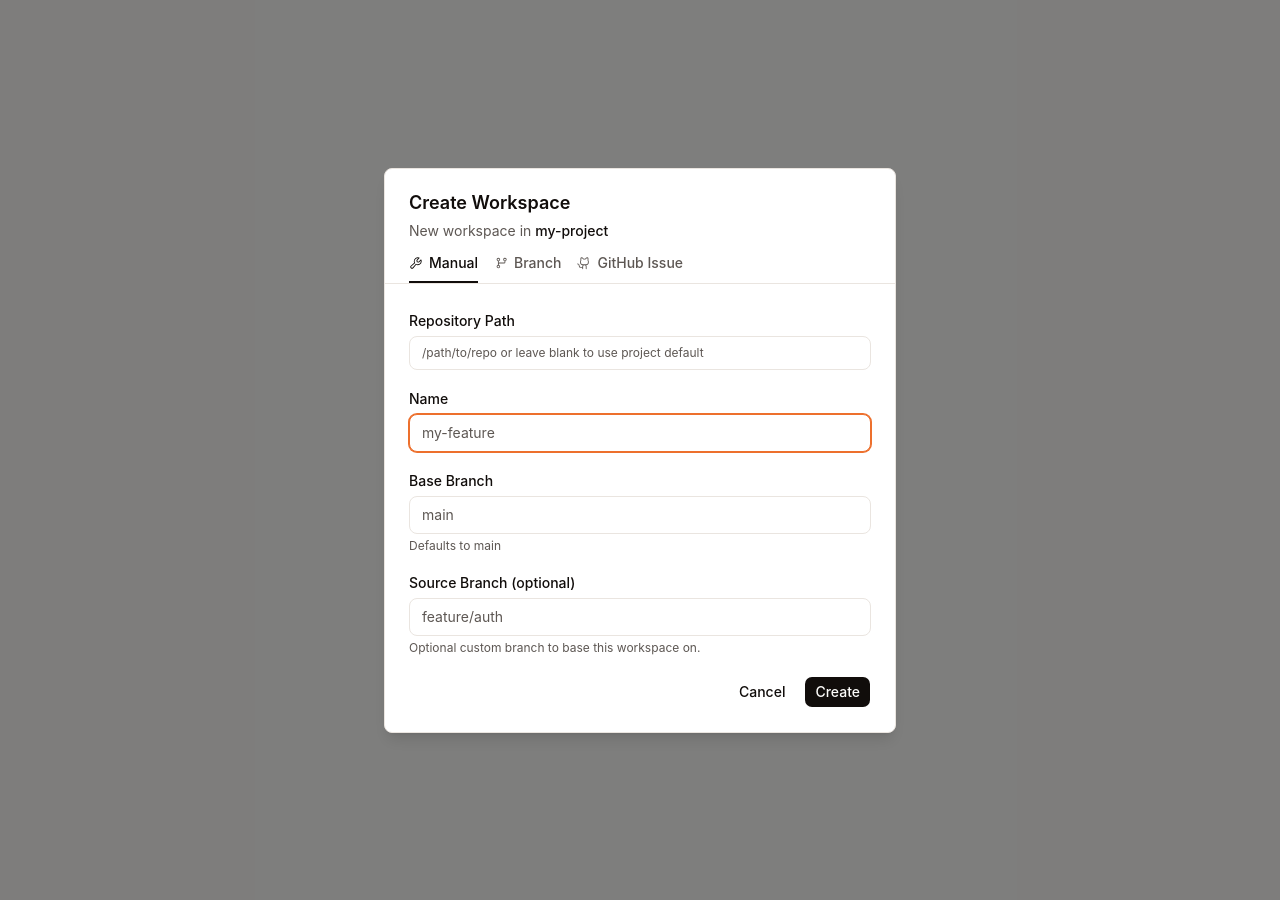
Test: CreateWorkspaceDialog › shows validation error when Create is clicked with empty name
This screenshot has width=1280, height=900.
Click the button "Create". click: [838, 692]
box: top-left (804, 676), bottom-right (871, 708)
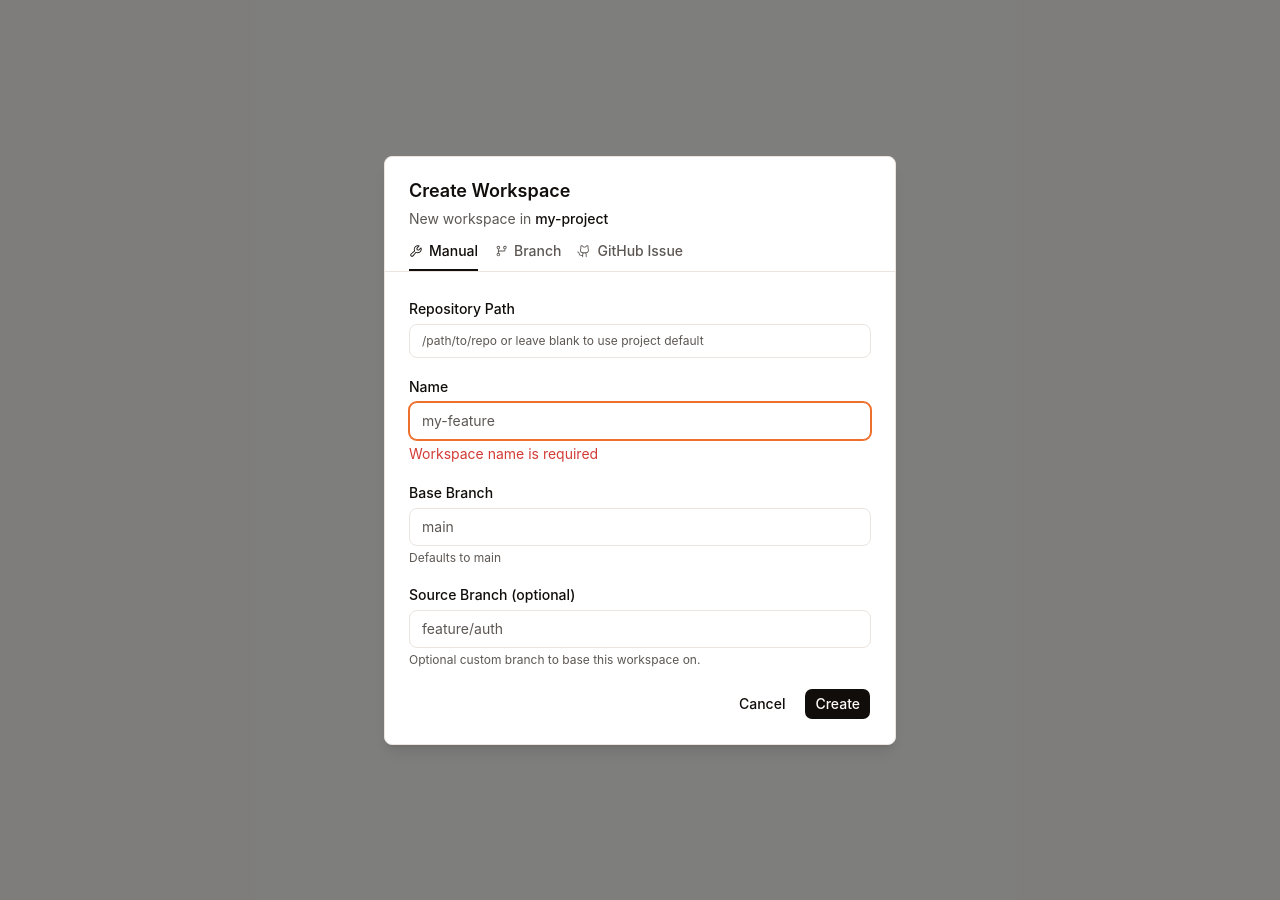
Result: the text "Workspace name is required" is shown at top-left (409, 444), bottom-right (598, 462)
